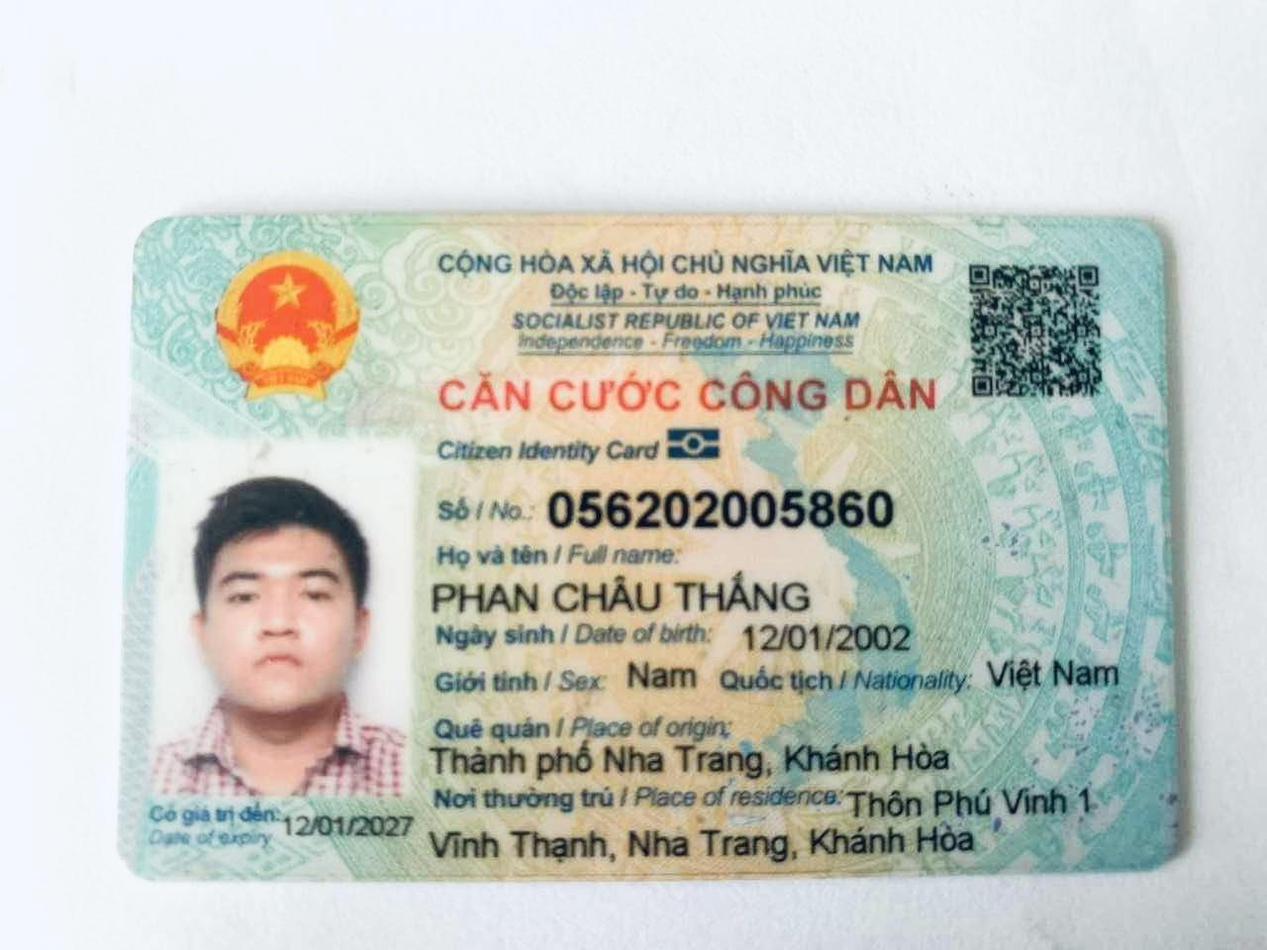ID: (542, 477, 899, 539)
birth: (740, 617, 917, 657)
name: (427, 565, 833, 620)
place: (424, 739, 966, 779)
residence: (426, 820, 989, 866), (847, 782, 1101, 824)
